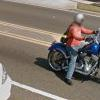Motorcycle: (39, 26, 100, 86)
